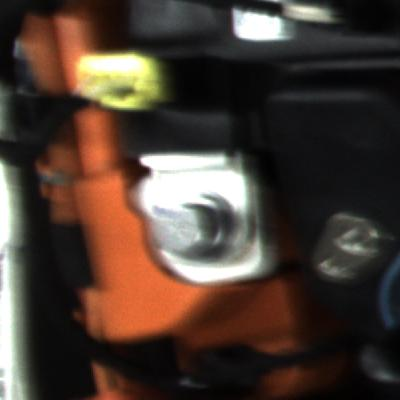nut_b: (150, 189, 244, 263)
